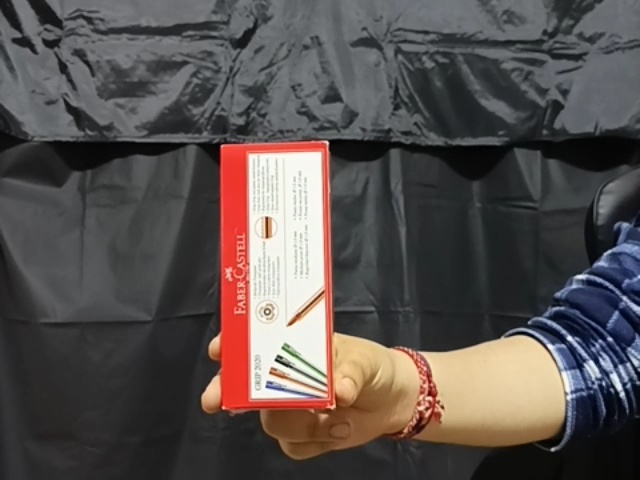xd: (216, 140, 336, 410)
